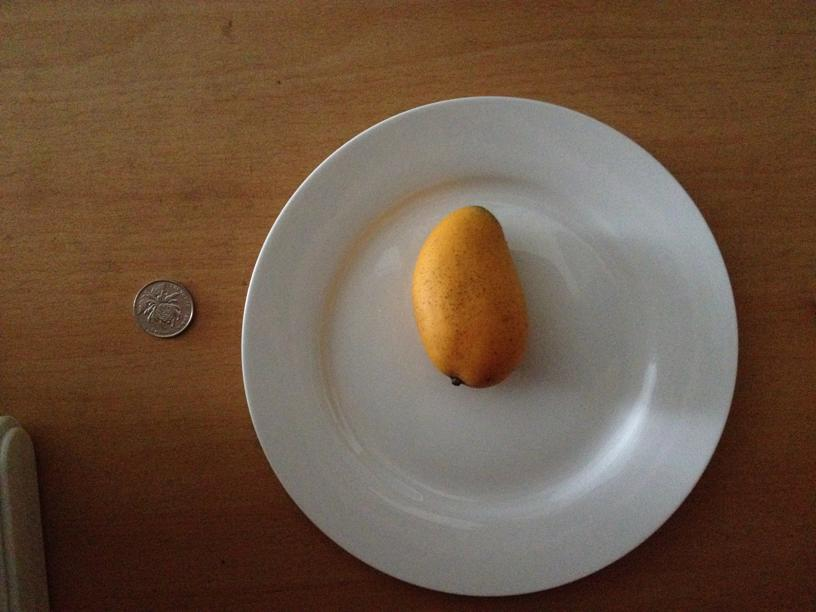coin: (131, 280, 194, 338)
mango: (414, 201, 525, 387)
